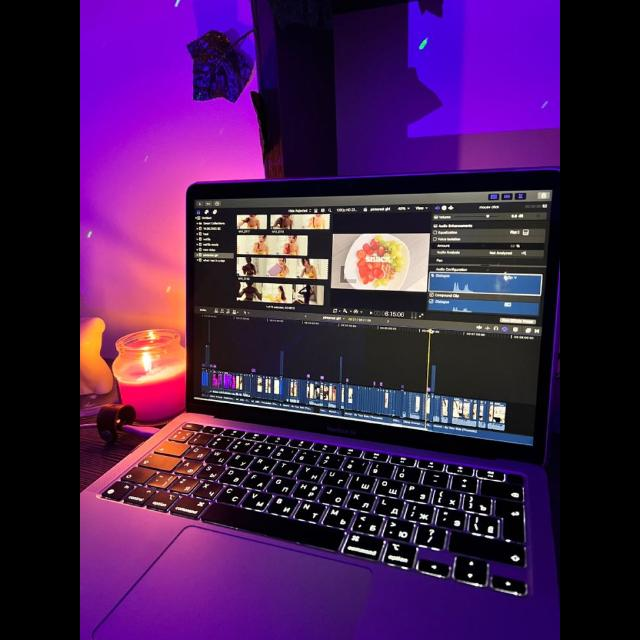laptop: (80, 172, 560, 640)
